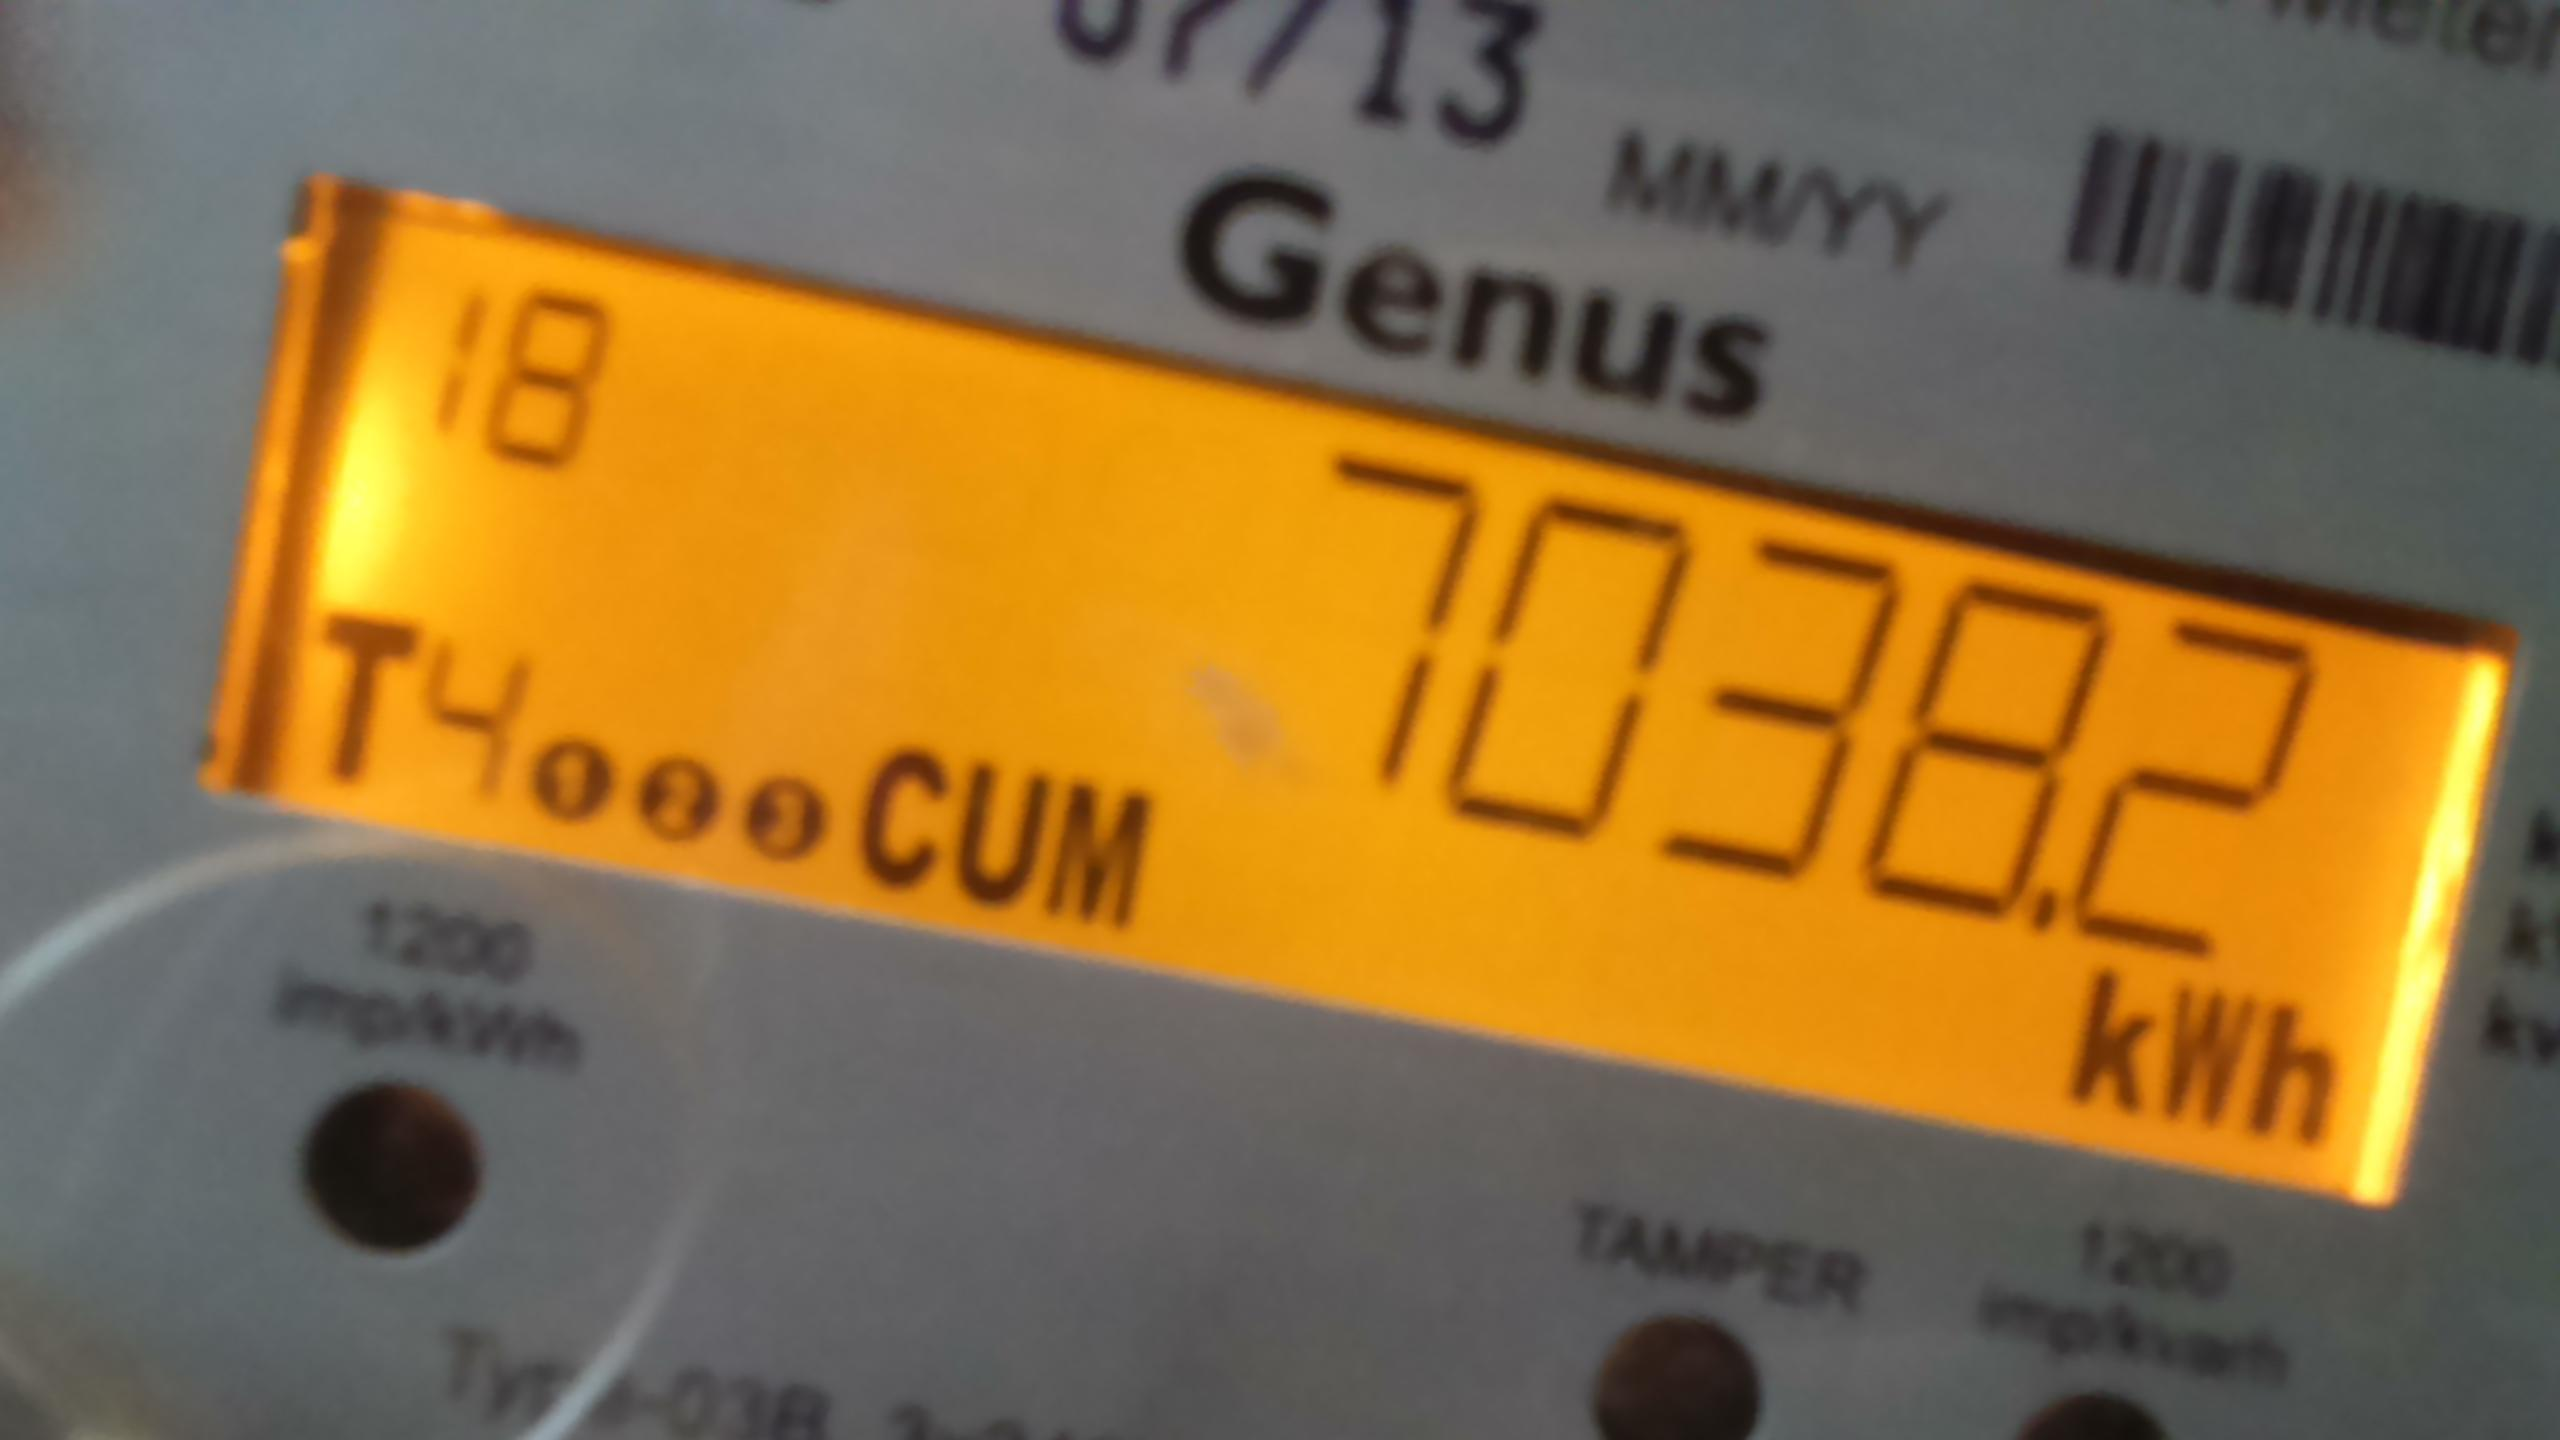.: (2052, 972, 2357, 1174)
0: (1994, 838, 2092, 966)
1: (1401, 468, 1712, 856)
3: (2064, 623, 2332, 976)
4: (1661, 523, 1912, 872)
8: (1308, 393, 1522, 786)
9: (1844, 548, 2137, 922)
